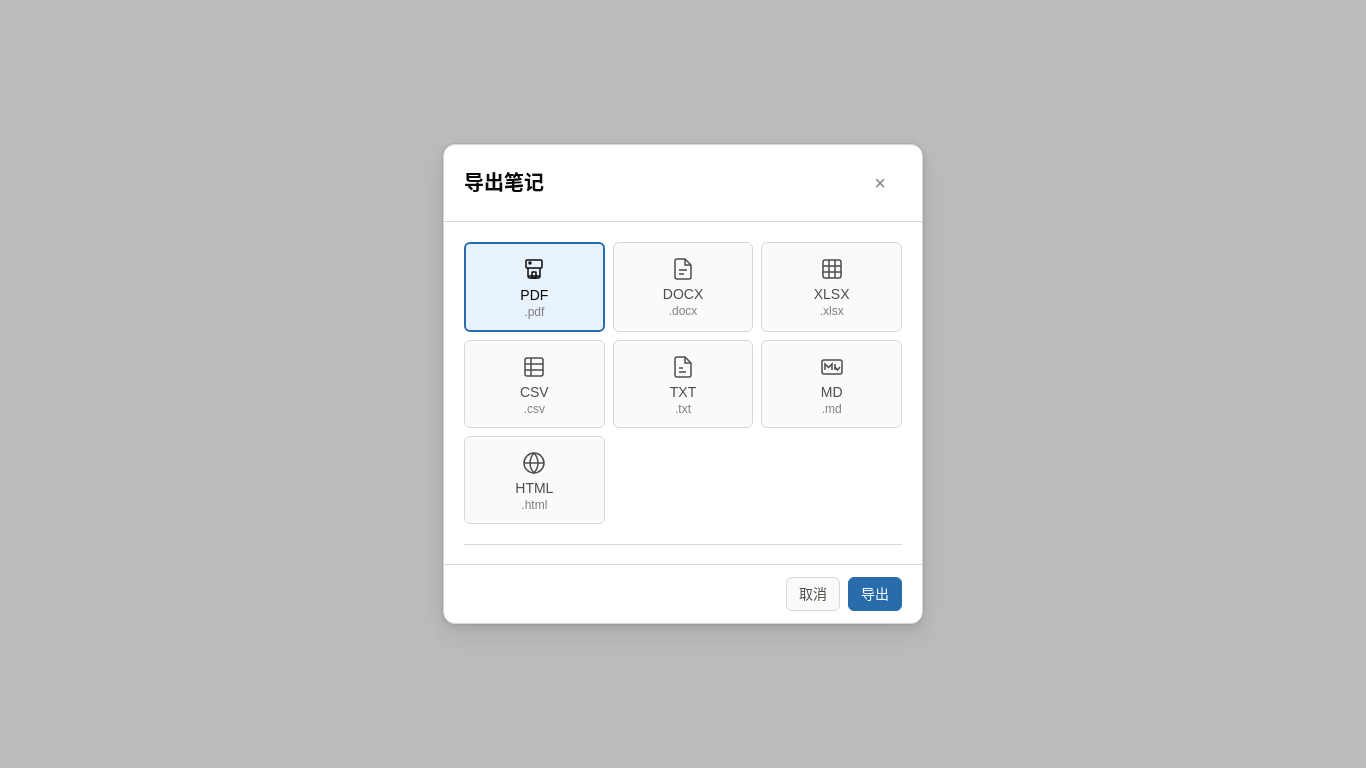
Test: ExportDialog error recovery › unlocks cancel and retry after exportNote rejects, then can succeed
Click the button "导出" at (875, 594), box left=848, top=577, right=902, bottom=611
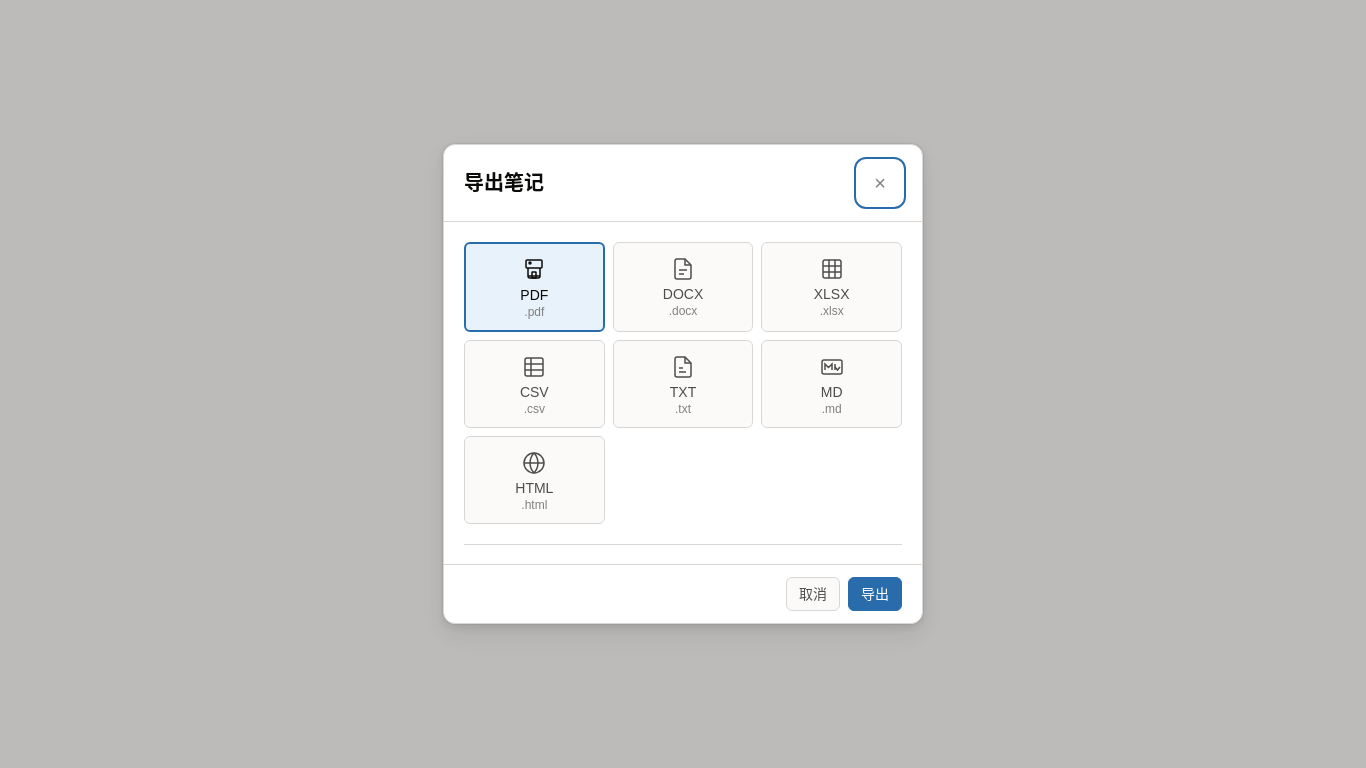
Check: the button "取消" is enabled, box left=786, top=577, right=840, bottom=611
Click the button "导出" at (875, 594), box left=848, top=577, right=902, bottom=611
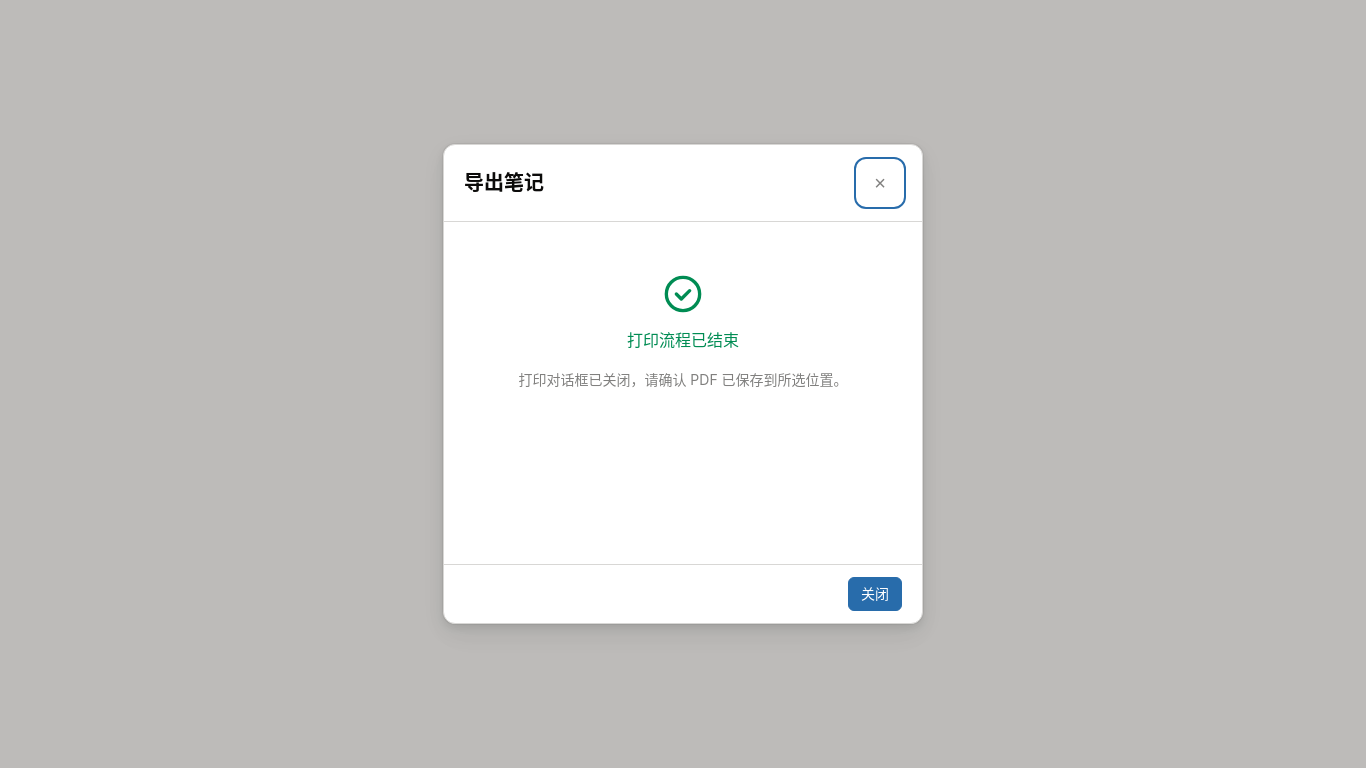
Check: the text "打印流程已结束" is shown, box left=627, top=326, right=739, bottom=355
Check: the text "请确认 PDF 已保存" is shown, box left=518, top=371, right=848, bottom=388
